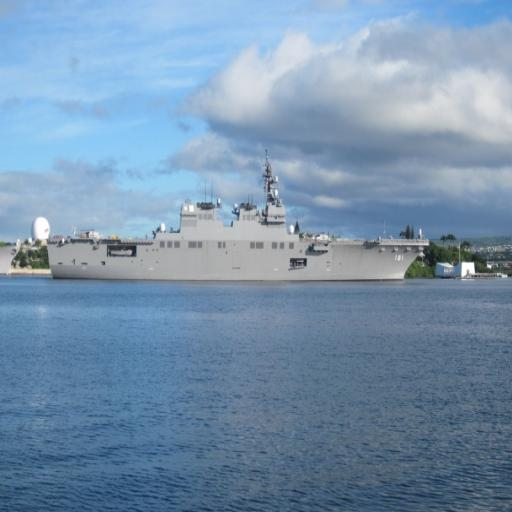Portanaves: (42, 144, 433, 288)
